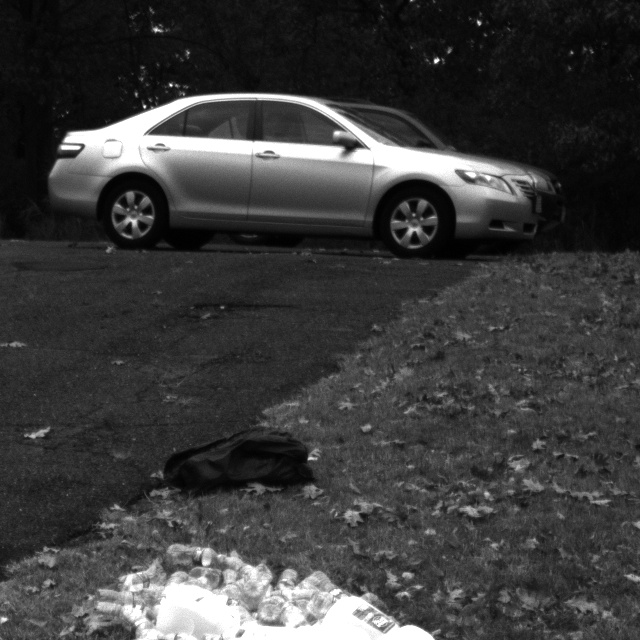bottle: (163, 540, 223, 571), (119, 567, 161, 593), (276, 568, 300, 595)
